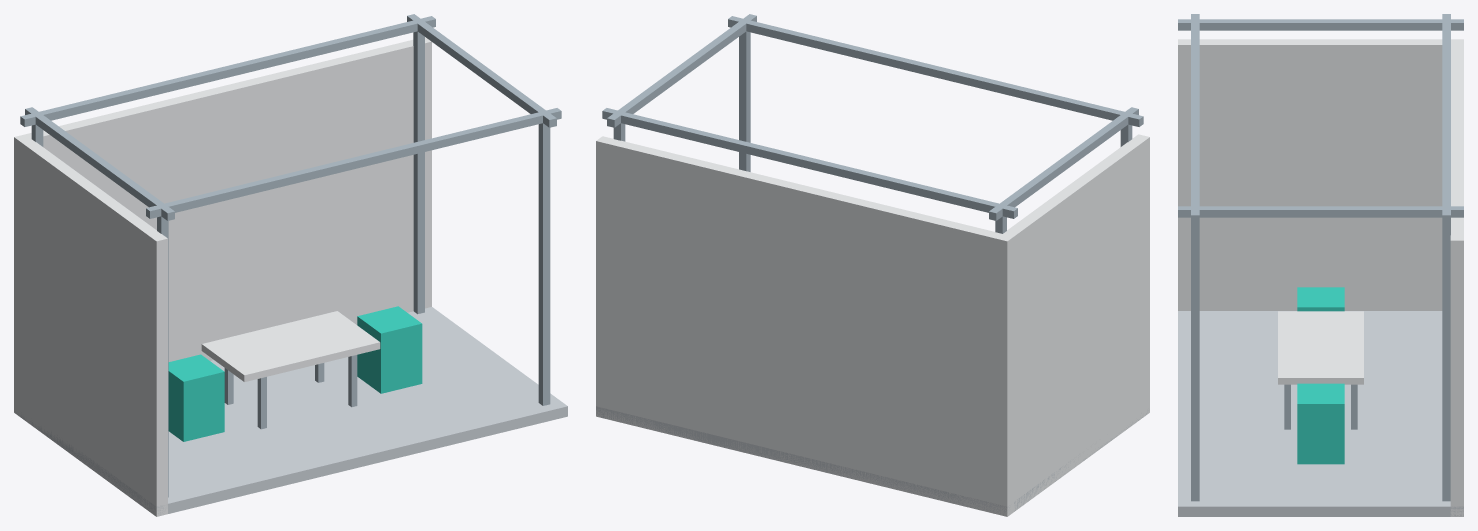
3 renders of one model, left to right at view 1: azimuth 30°, elevation 25°; view 2: azimuth 150°, elevation 25°; view 3: azimuth 270°, elevation 25°, orthographic.
Visible parts, largest first — view 1: Exhibition Booth Concept; view 2: Exhibition Booth Concept; view 3: Exhibition Booth Concept.
Part boxes in pixels (x1,y1,x2,y2): Exhibition Booth Concept: (14,14,567,516); Exhibition Booth Concept: (596,14,1149,516); Exhibition Booth Concept: (1178,14,1463,516).
Size of the model in its own units: 5 by 3.49 by 3.
